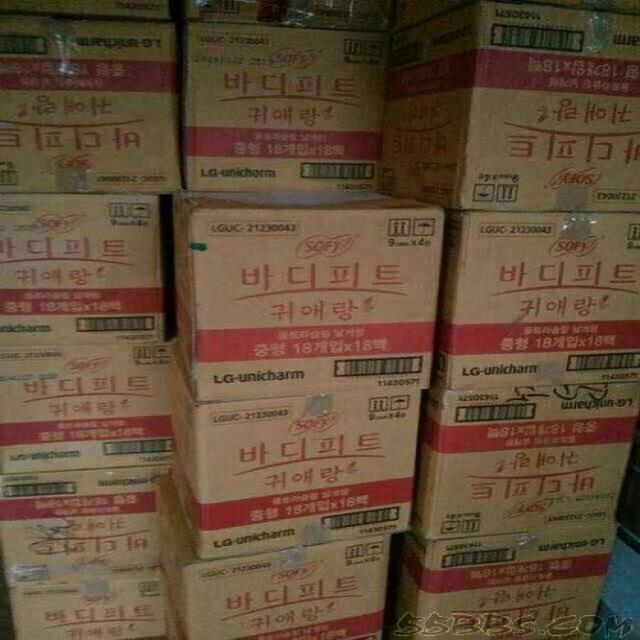box: (172, 191, 445, 402), (172, 342, 424, 559), (152, 474, 392, 640), (430, 208, 639, 391), (180, 23, 393, 193), (411, 383, 639, 540), (0, 12, 183, 193), (383, 521, 620, 640), (0, 192, 165, 344), (0, 343, 175, 474), (0, 463, 173, 582), (5, 566, 166, 639), (182, 0, 393, 34), (0, 0, 180, 22), (390, 1, 481, 35)
